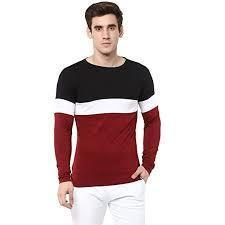Tshirt: (53, 55, 162, 184)
